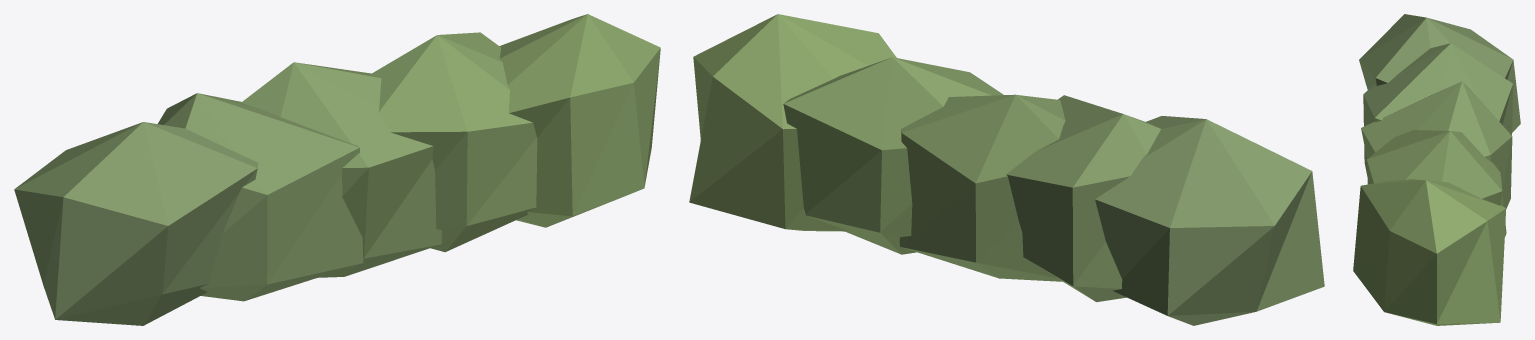
3 renders of one model, left to right at view 1: azimuth 30°, elevation 25°; view 2: azimuth 150°, elevation 25°; view 3: azimuth 270°, elevation 25°, orthographic. The views are drawn at different scales.
Size of the model in its own units: 4.69 by 1.5 by 1.44.
